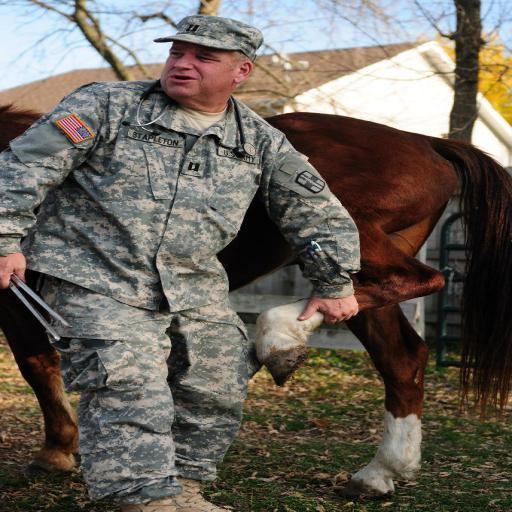horse: (0, 102, 512, 504)
